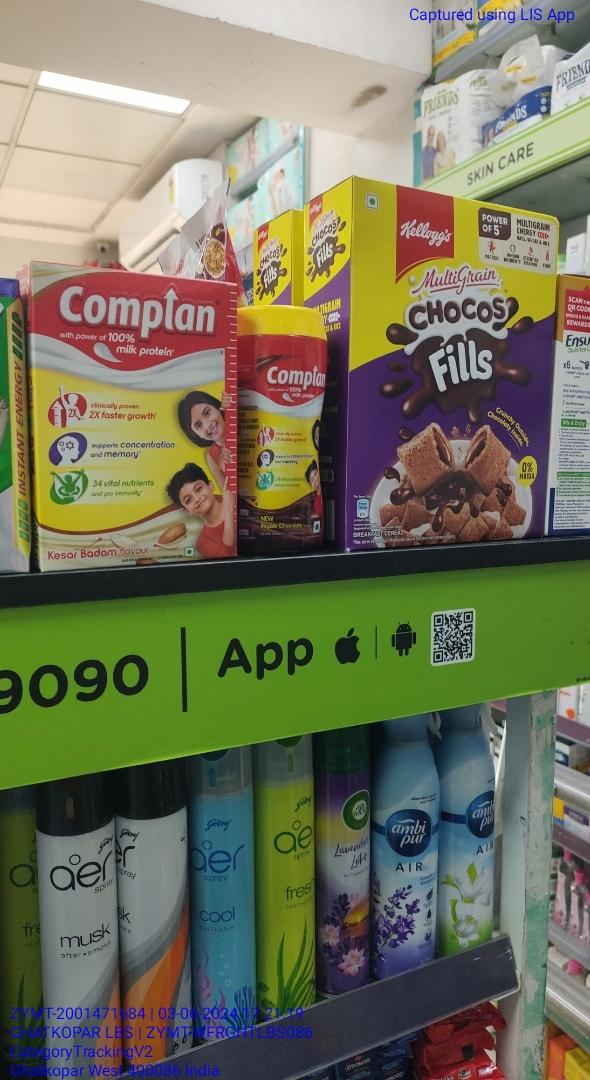COMPLAN_CHOCOLATE_500_GMS_JAR: (245, 305, 331, 551)
COMPLAN_KESAR_BADAM_500_GMS_PACK: (32, 262, 244, 566)
